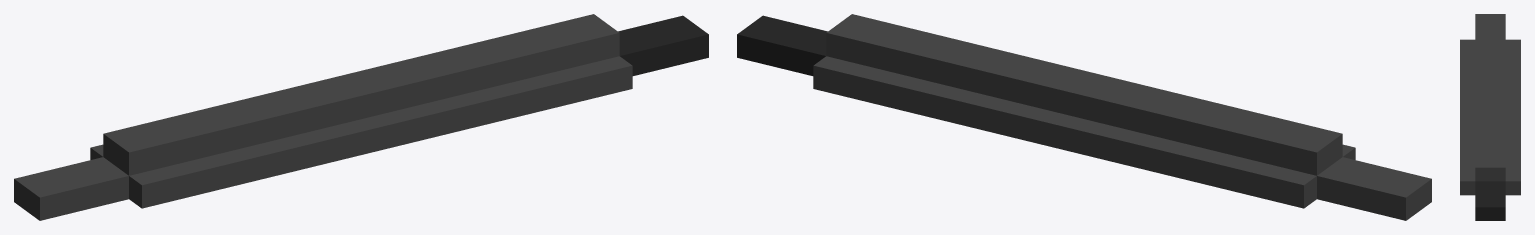
File: Barrel.fbx
3 renders of one model, left to right at view 1: azimuth 30°, elevation 25°; view 2: azimuth 150°, elevation 25°; view 3: azimuth 270°, elevation 25°, orthographic. The views are drawn at different scales.
Visible parts, largest first — view 1: Matrix; view 2: Matrix; view 3: Matrix.
Part boxes in pixels (x1,y1,x2,y2): Matrix: (14,14,708,220); Matrix: (737,14,1431,220); Matrix: (1460,14,1520,220).
Bounding box in the file's own units: 30 × 2 × 4.
Materials: 1 (1 with a texture image).
